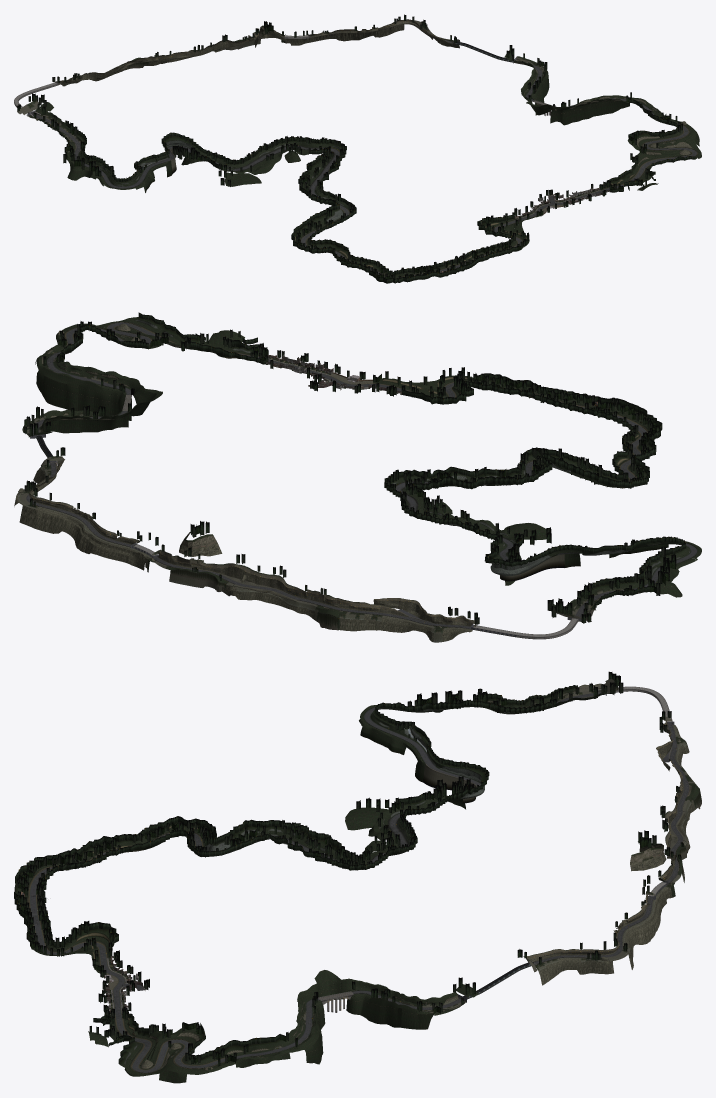
File: RockyPass.glb
The picture shows the model from 3 angles, top to bottom: view 1: azimuth 30°, elevation 25°; view 2: azimuth 150°, elevation 25°; view 3: azimuth 270°, elevation 25°; orthographic projection. The views are drawn at different scales.
Parts seen in each view (by area): view 1: 0001; view 2: 0001; view 3: 0001.
Boxes of the visible parts, x1=… form: 0001: x1=14, y1=14, x2=701, y2=283; 0001: x1=14, y1=312, x2=701, y2=642; 0001: x1=14, y1=671, x2=701, y2=1083.
Size of the model in its own units: 2341 by 314 by 1912.
Materials: 2 (2 with a texture image).
